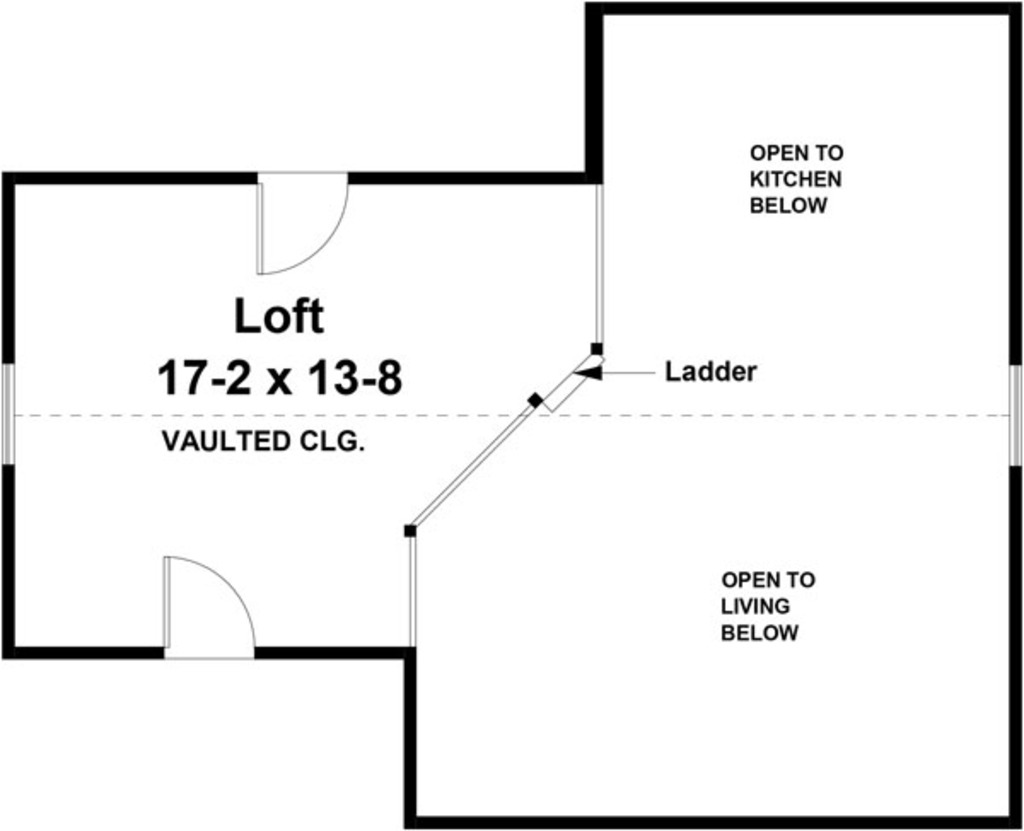door: (252, 175, 350, 274), (163, 557, 260, 657)
window: (1007, 362, 1022, 466), (1, 363, 16, 463)
